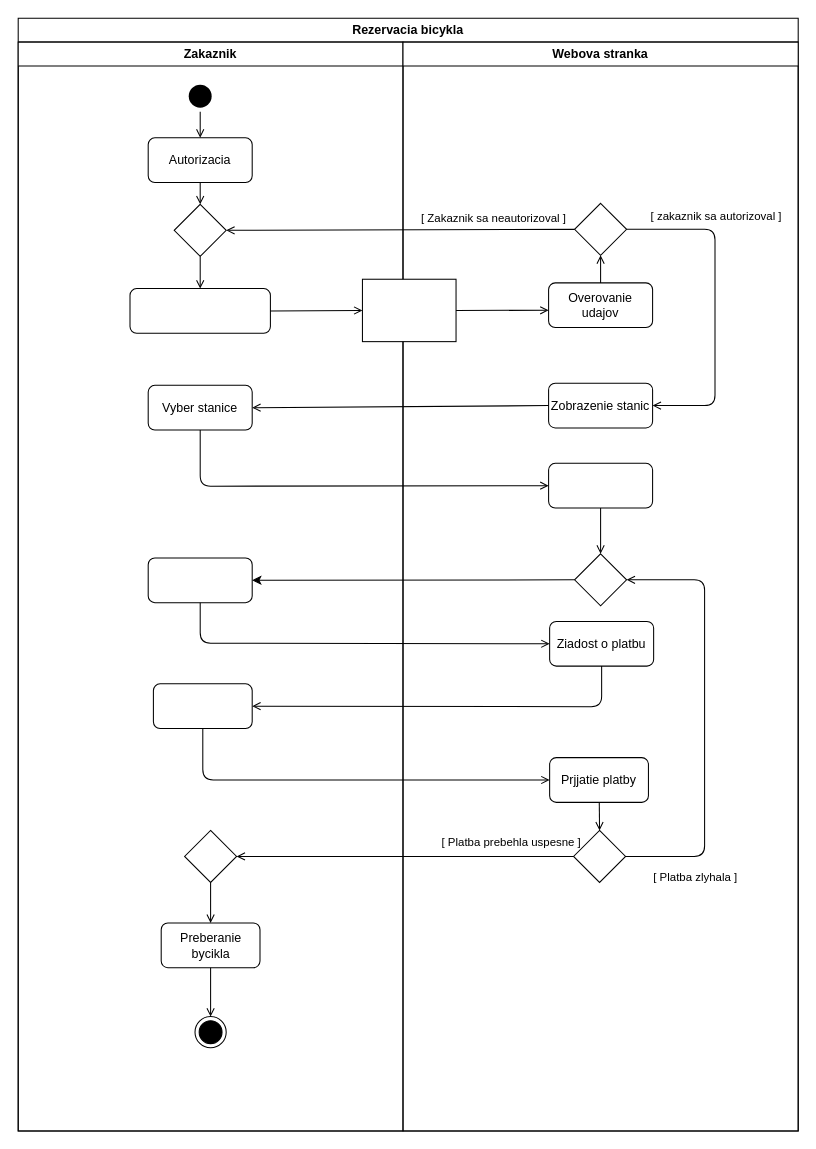
Image size: 816x1149. Some labels were removed from this diagram. Here are the shapes that lost their labels. From the top down, the centre of each, then its label:
At [199,310]: "Zadanie prihlasovacich udajov".
At [408,310]: "Prihlasovacie udaje".
At [600,485]: "Zobrazenie tarifov".
At [199,580]: "Vyber tarifu".
At [202,706]: "Platba".
